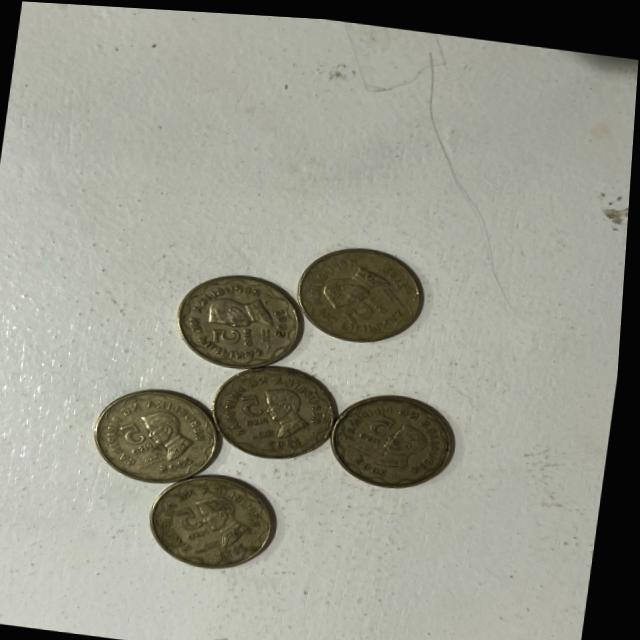5_Old_Front: (339, 284, 402, 330), (202, 315, 269, 358), (239, 380, 287, 429), (118, 415, 166, 454), (362, 403, 402, 443), (185, 501, 222, 532)
